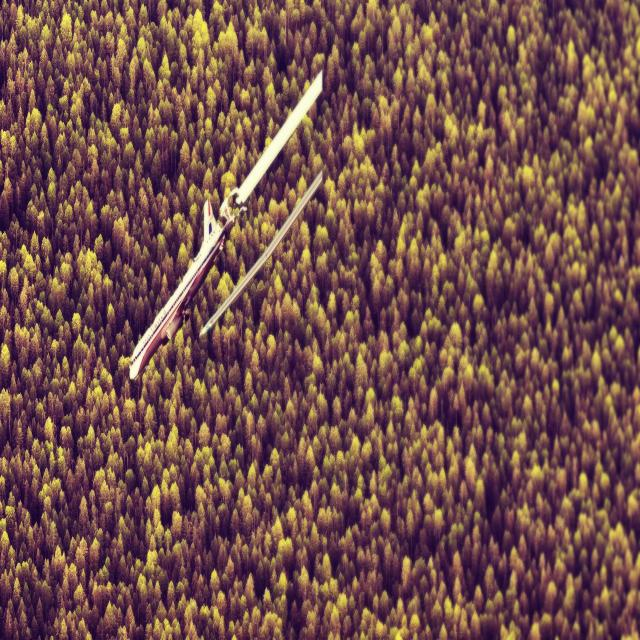airplane: (128, 67, 324, 381)
